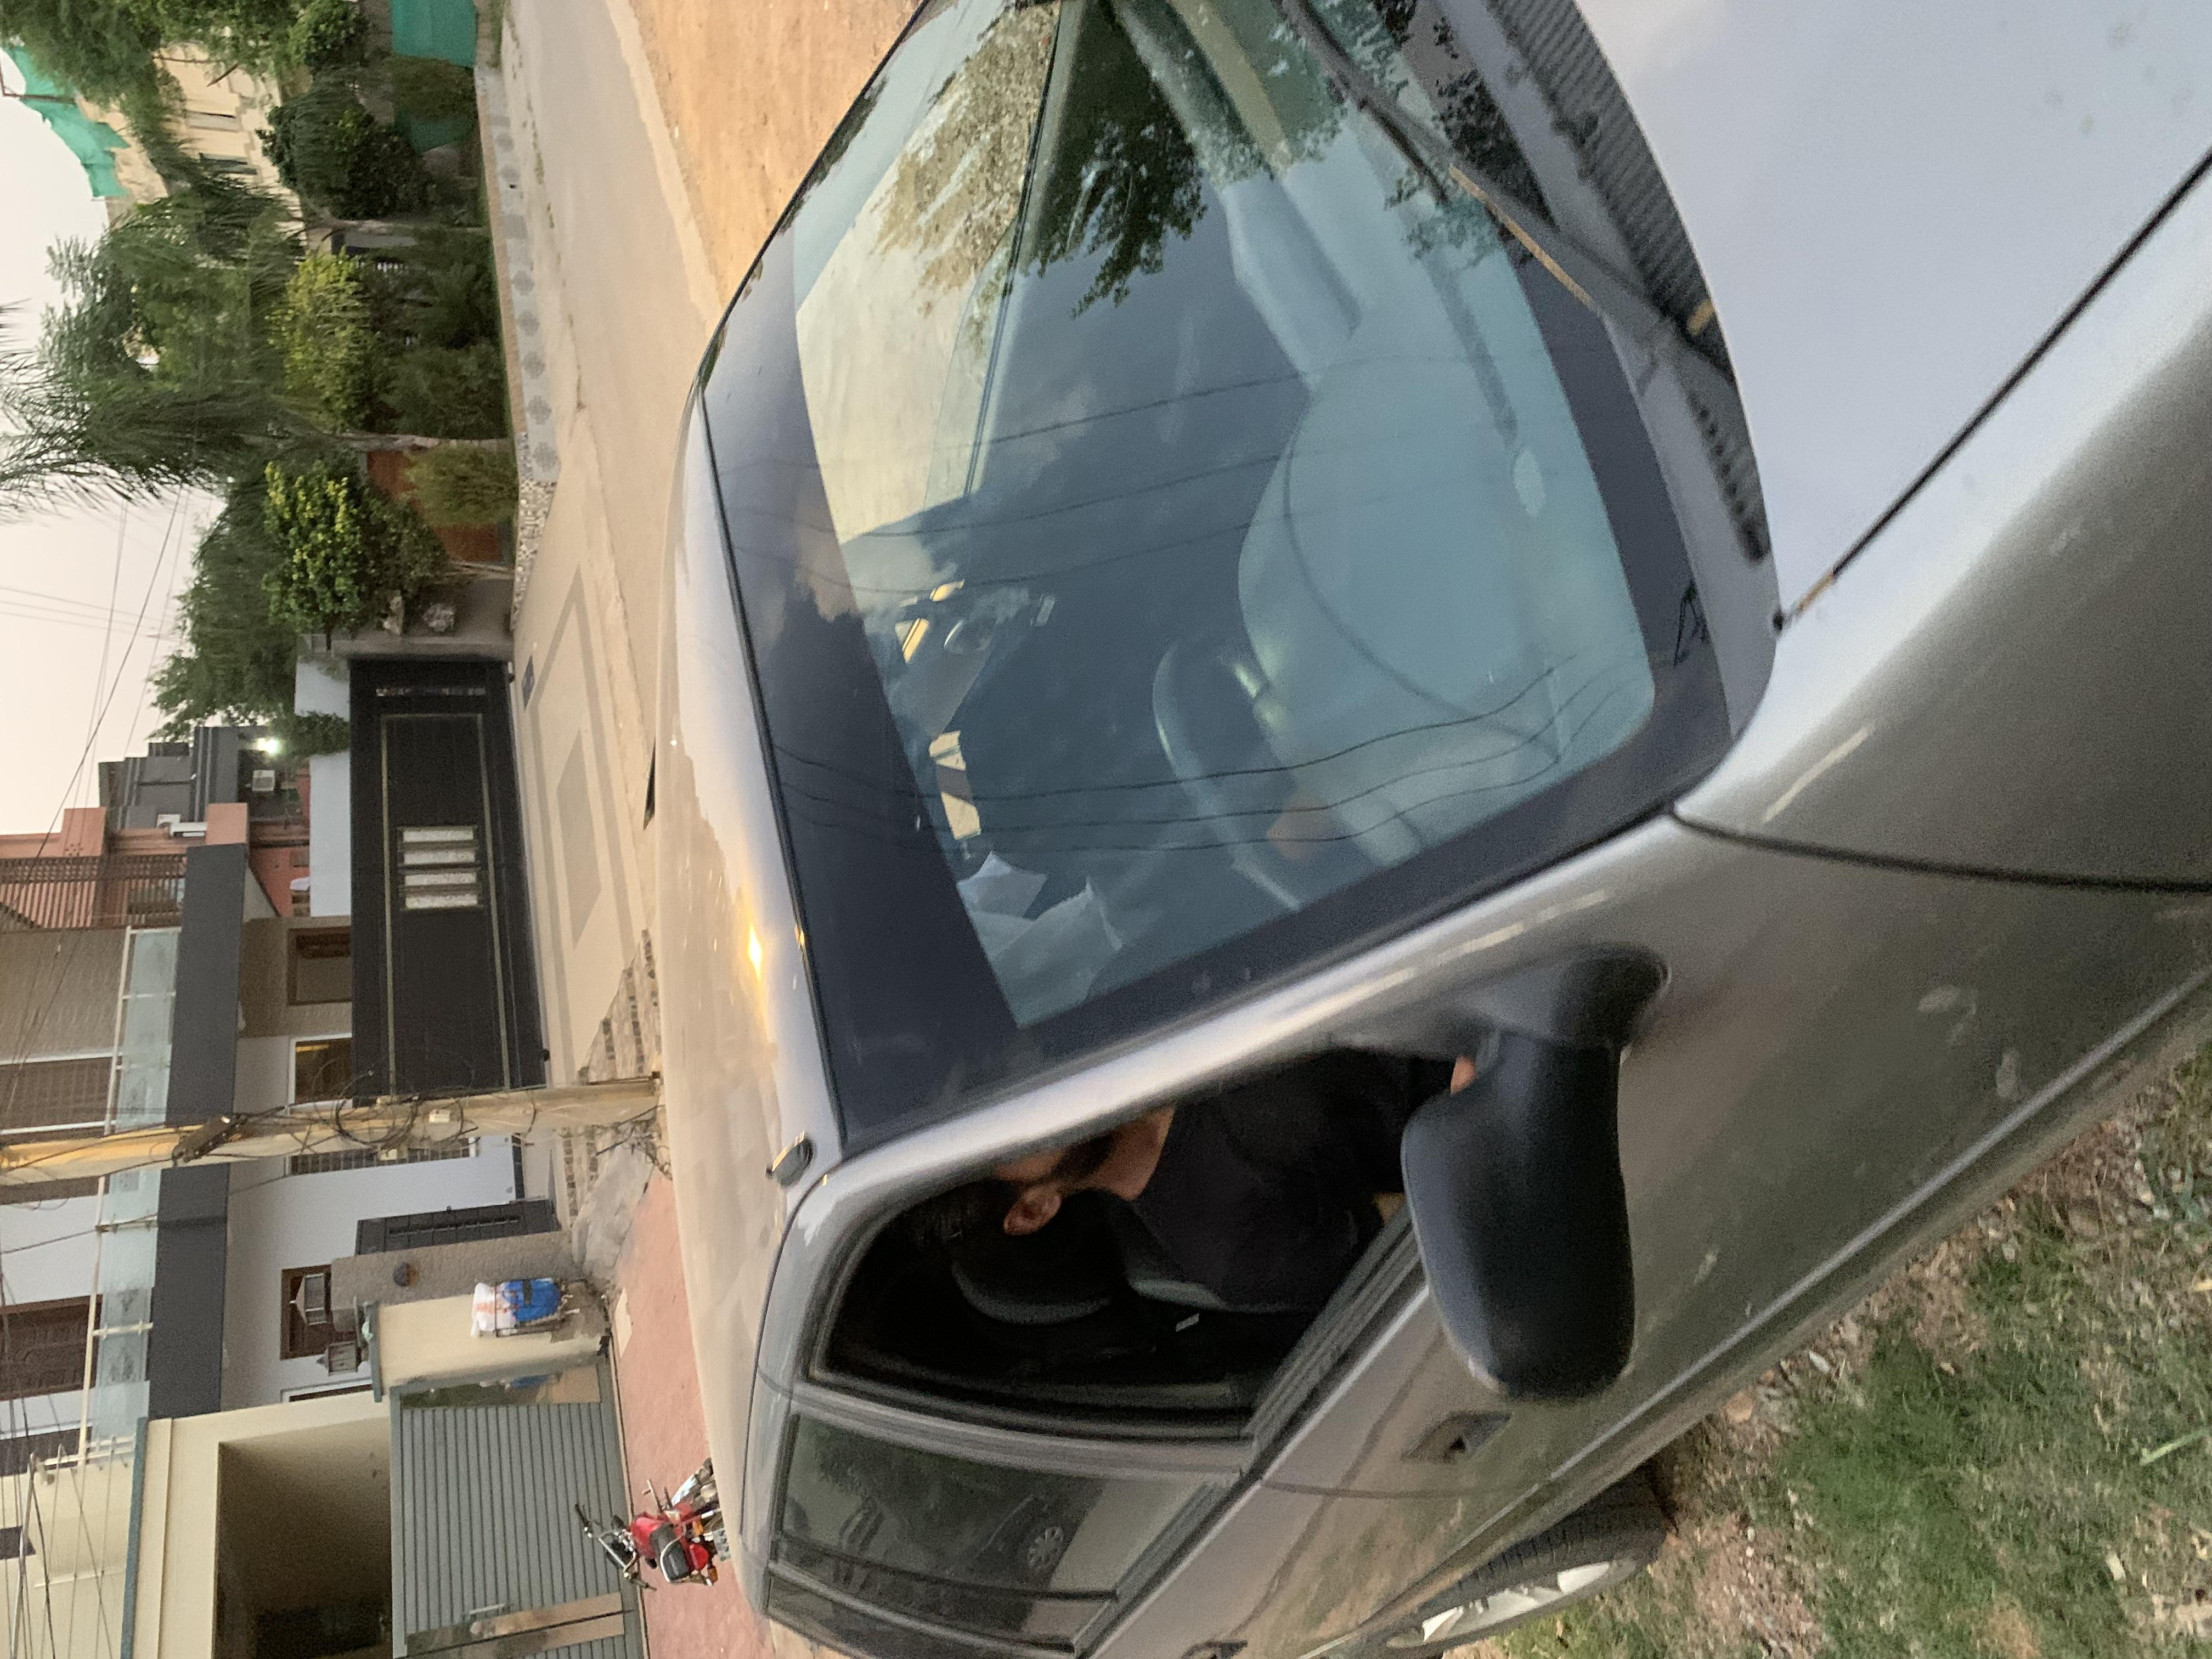windshield: (610, 511, 2212, 1366)
